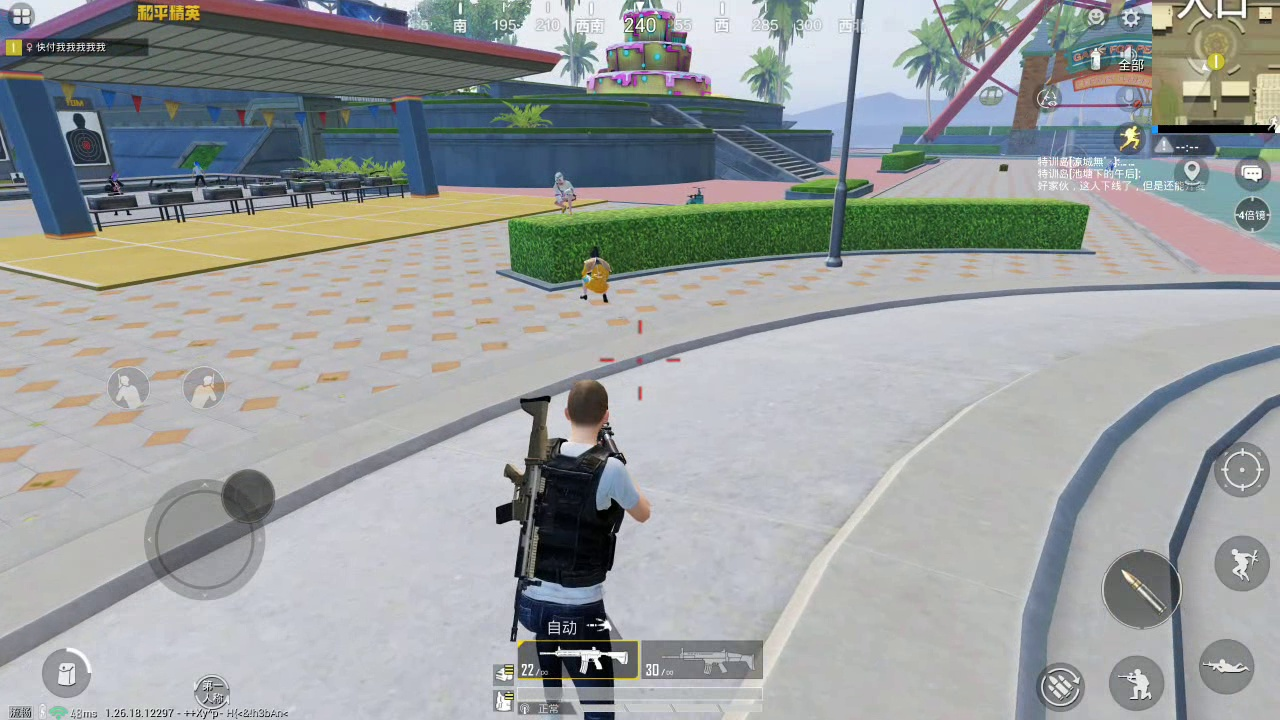enemy: (579, 244, 609, 303), (108, 171, 130, 216), (553, 170, 576, 212), (191, 160, 208, 189)
